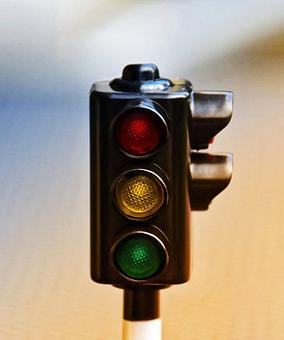trafic: (89, 85, 190, 285)
